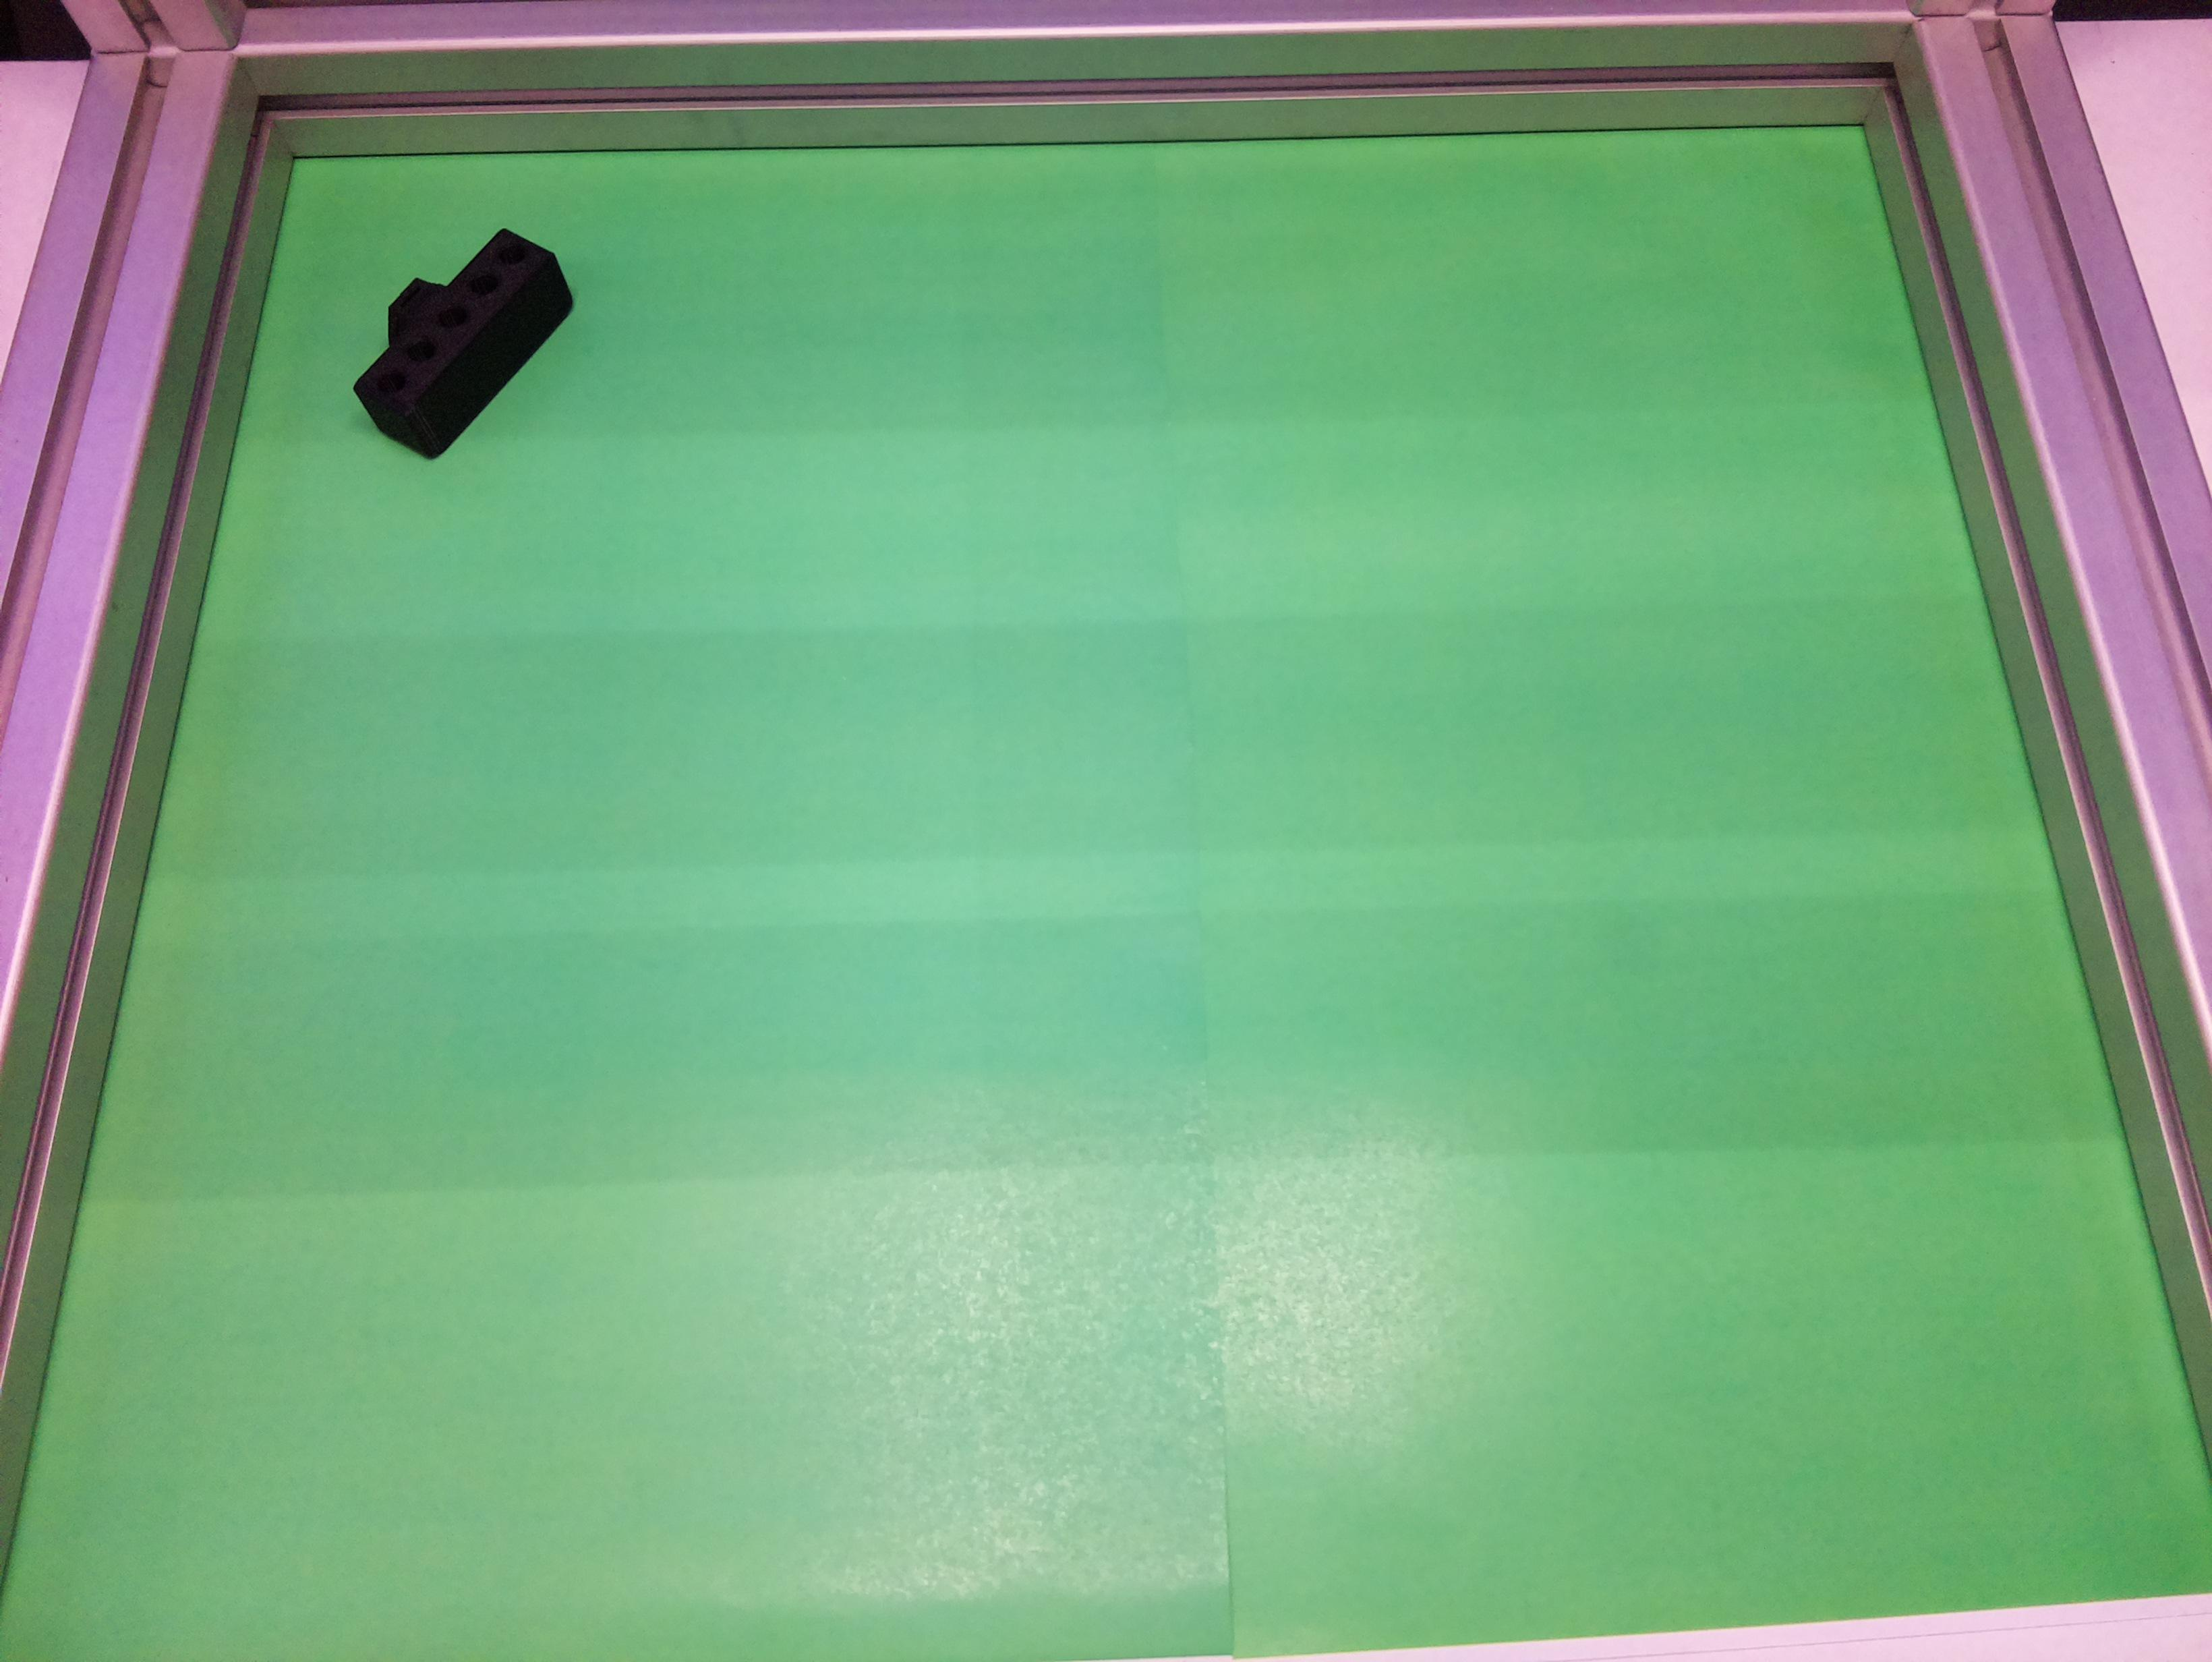bit_holder: (323, 196, 592, 472)
